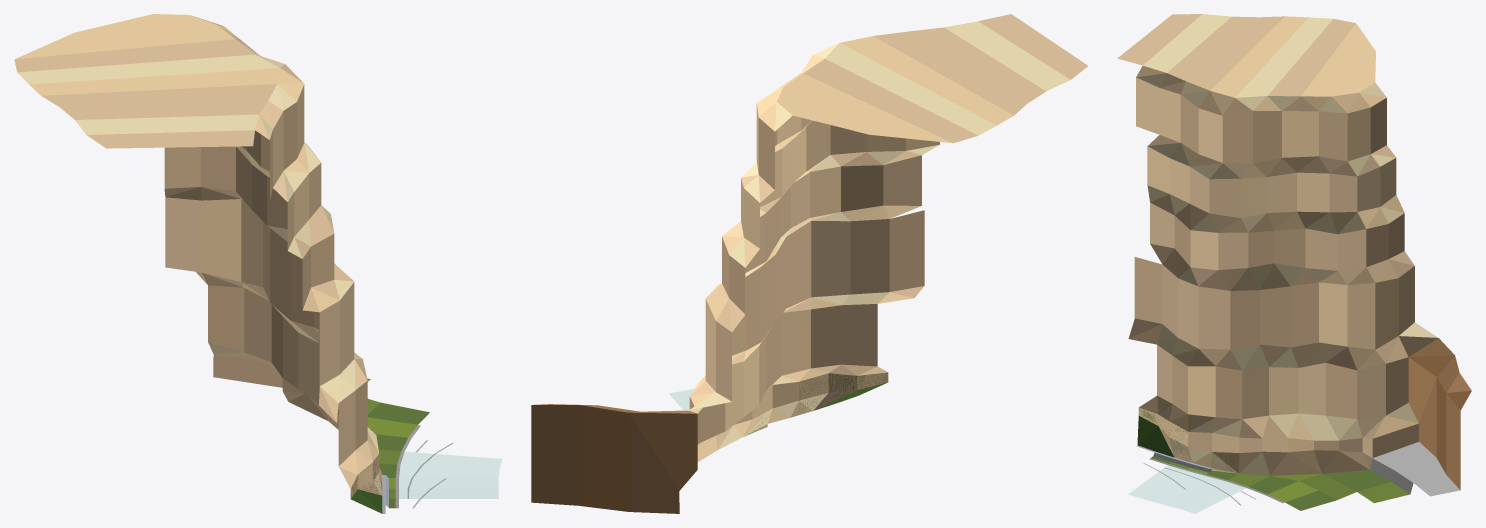
The picture shows the model from 3 angles, left to right: view 1: azimuth 30°, elevation 25°; view 2: azimuth 150°, elevation 25°; view 3: azimuth 270°, elevation 25°; orthographic projection. The views are drawn at different scales.
Parts seen in each view (by area): view 1: O14B37; view 2: O14B37; view 3: O14B37.
Part boxes in pixels (left/top/right/bottom): O14B37: left=14, top=14, right=502, bottom=513; O14B37: left=531, top=14, right=1087, bottom=513; O14B37: left=1117, top=14, right=1471, bottom=513.
Size of the model in its own units: 143 by 140 by 133.
